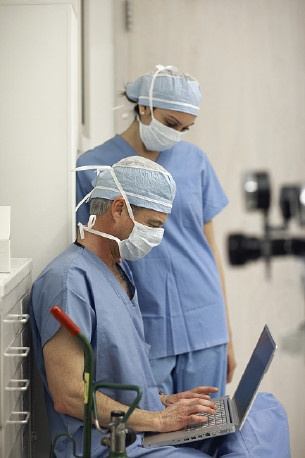Mask: (114, 206, 169, 261)
